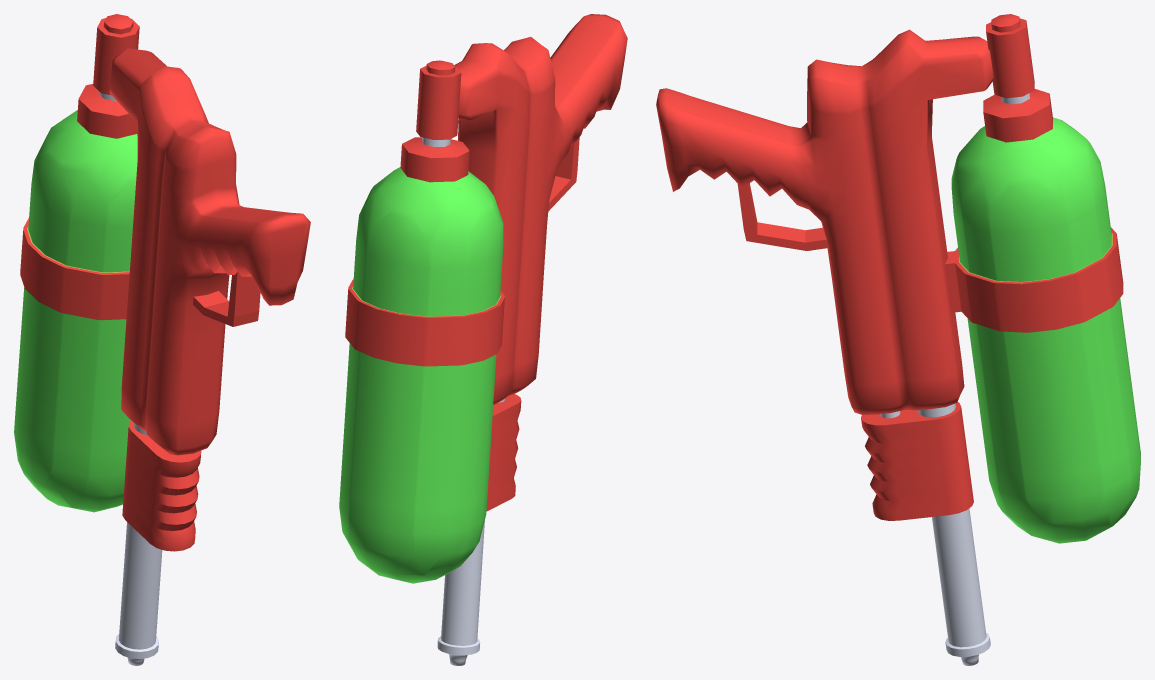
Rendered from watergun.glb.
3 views of the same model, side by side, from view 1: azimuth 30°, elevation 25°; view 2: azimuth 150°, elevation 25°; view 3: azimuth 270°, elevation 25° (orthographic). The views are drawn at different scales.
Visible parts, largest first — view 1: Body, Slider; view 2: Body, Slider; view 3: Body, Slider.
Part boxes in pixels (bbox=[...]): Body: bbox=[14, 14, 310, 512]; Slider: bbox=[115, 420, 201, 665]; Body: bbox=[339, 14, 627, 583]; Slider: bbox=[437, 394, 521, 665]; Body: bbox=[656, 14, 1140, 543]; Slider: bbox=[861, 402, 990, 665].
Bounding box in the file's own units: 0.0846 × 0.37 × 0.2517.
Materials: 1 (1 with a texture image).
